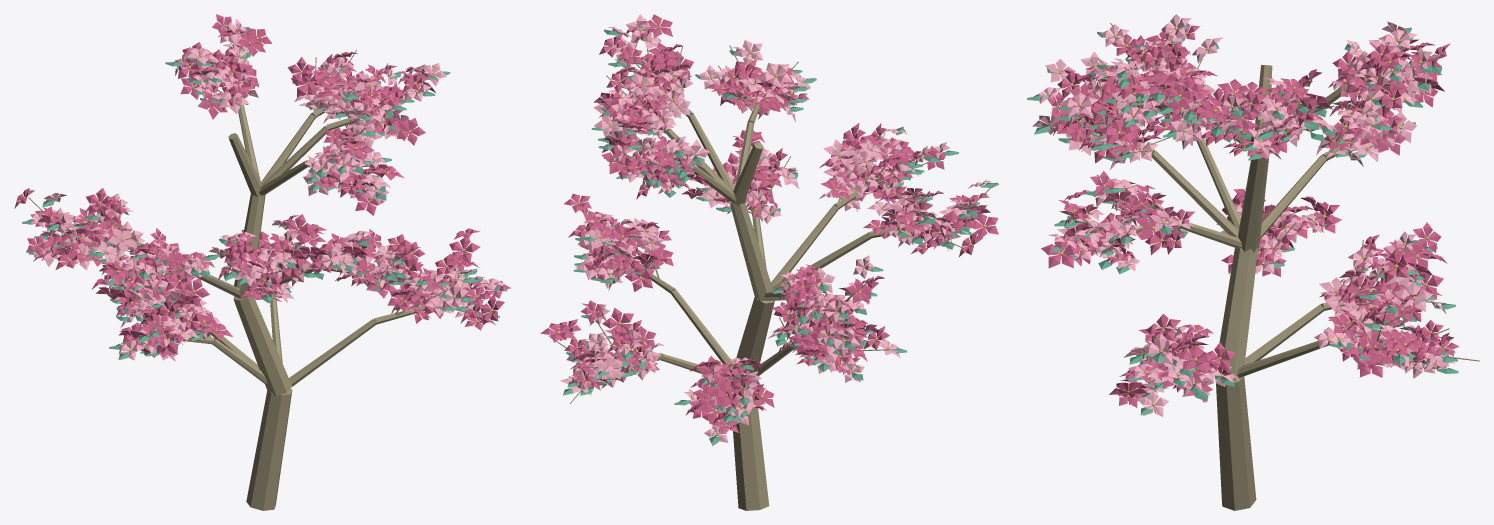
The model's file is crabapple.glb.
3 views of the same model, side by side, from view 1: azimuth 30°, elevation 25°; view 2: azimuth 150°, elevation 25°; view 3: azimuth 270°, elevation 25° (orthographic). The views are drawn at different scales.
Parts seen in each view (by area): view 1: Sunwen_crabapple; view 2: Sunwen_crabapple; view 3: Sunwen_crabapple.
Boxes of the visible parts, left/top/right/bottom form: Sunwen_crabapple: left=14, top=14, right=510, bottom=510; Sunwen_crabapple: left=540, top=14, right=998, bottom=510; Sunwen_crabapple: left=1027, top=14, right=1479, bottom=510.
Size of the model in its own units: 5.1 by 5.12 by 4.2.
